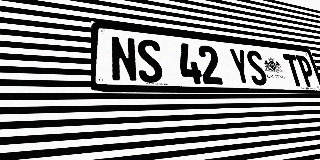2: (197, 45, 223, 84)
4: (176, 43, 203, 84)
N: (110, 35, 138, 82)
P: (295, 55, 317, 87)
S: (136, 38, 164, 83), (245, 50, 269, 86)
T: (282, 54, 305, 86)
Y: (228, 48, 253, 85)
